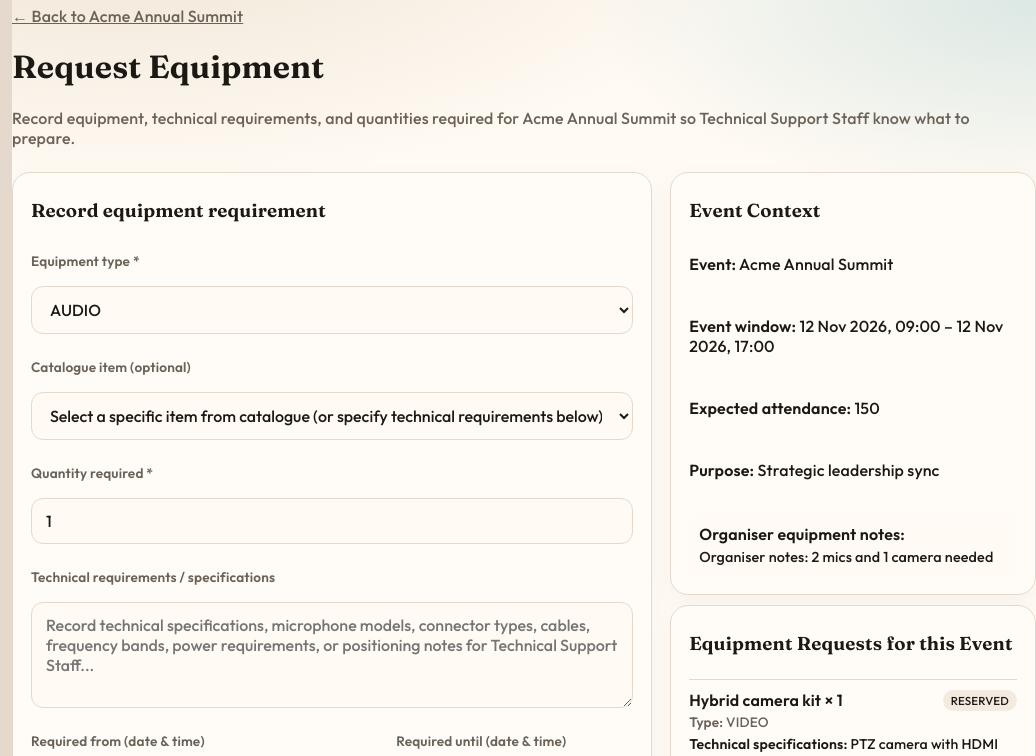
Test: SCRUM-47 EquipmentRequest page › shows error when neither equipment type nor catalogue item is provided
Expected: the heading "Request Equipment" is shown, 12,47 -> 324,86
Override the type select to have no meaningful selection by switching to OTHER then clearing
Select "Other / Custom Type…" in the dropdown labelled "Equipment type *": (332, 310) 31,286 -> 633,334
(page scrolled)
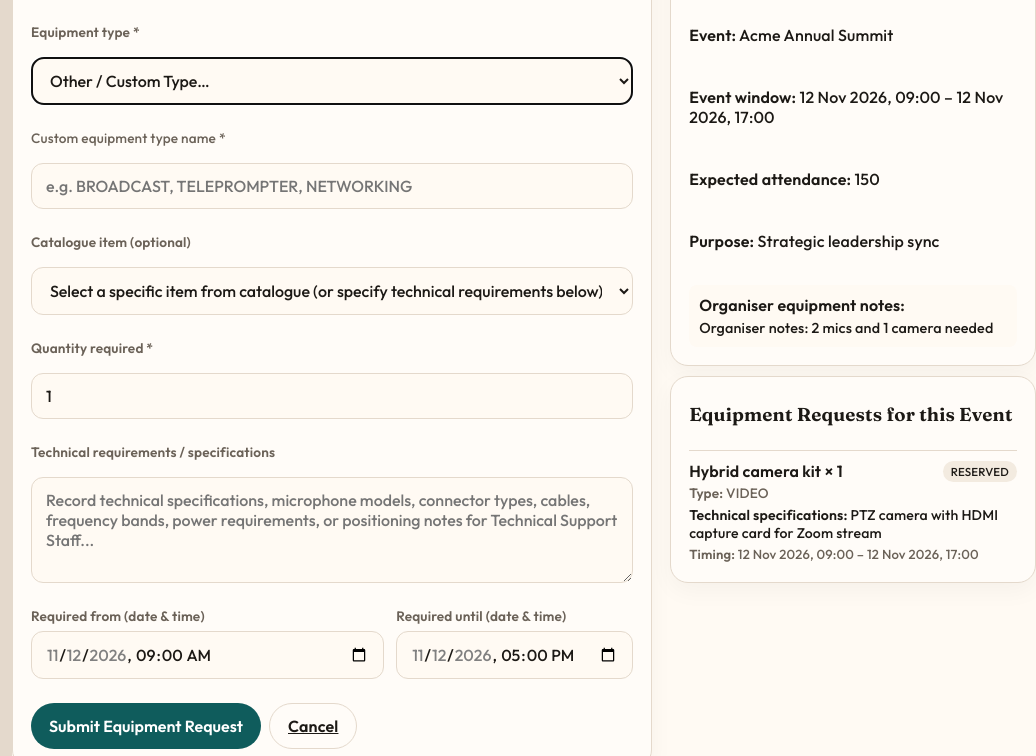
Now the field labelled "Custom equipment type name *" is shown, box 31,163 -> 633,209
Click the button "Submit Equipment Request": (146, 726) 31,703 -> 261,749
(page scrolled)
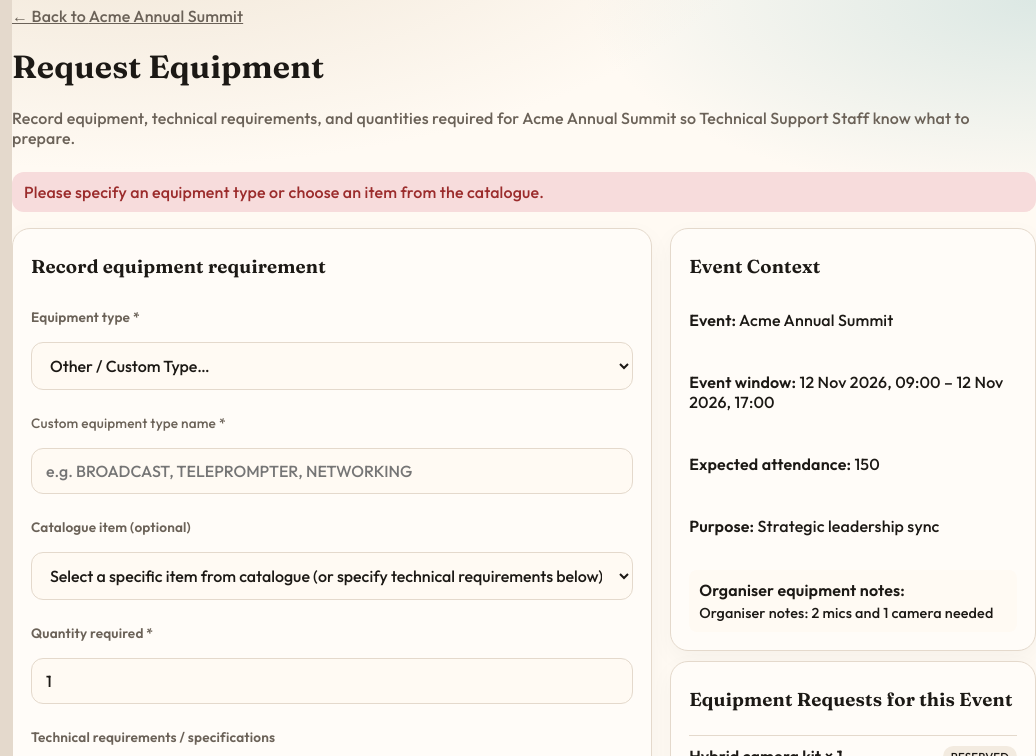
Now the text "Please specify an equipment type or choose an item from the catalogue." is shown, box 12,172 -> 1035,212
